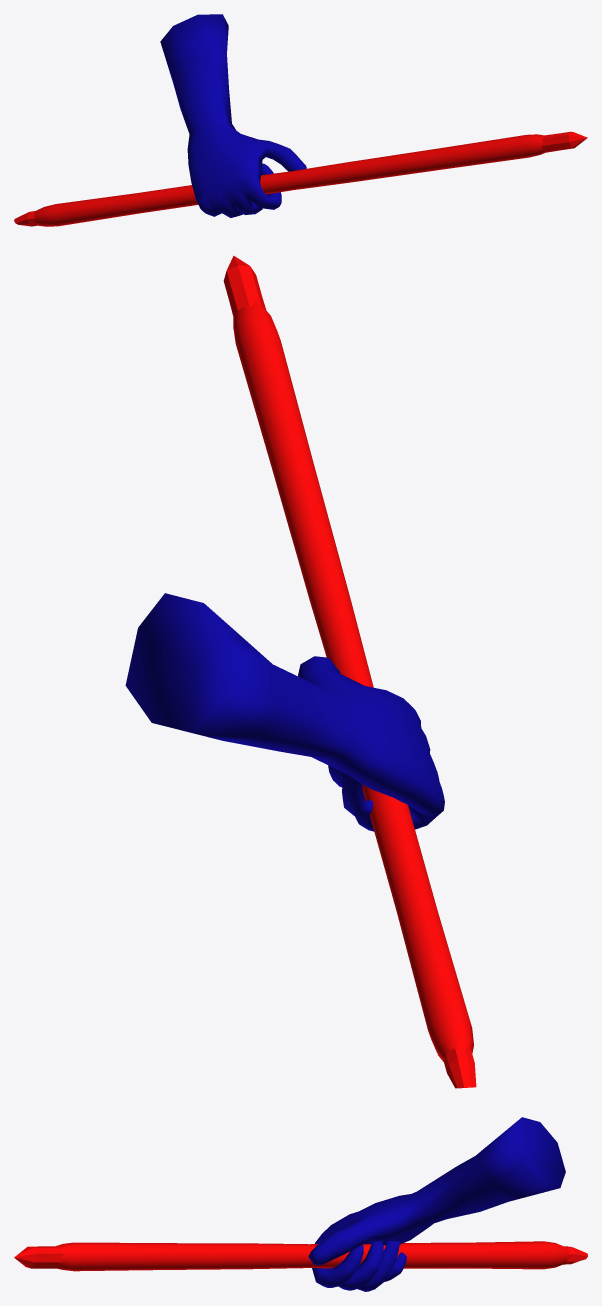
The model's file is Vara.FBX.
3 views of the same model, one above another, from view 1: azimuth 30°, elevation 25°; view 2: azimuth 150°, elevation 25°; view 3: azimuth 270°, elevation 25° (orthographic). The views are drawn at different scales.
Parts seen in each view (by area): view 1: Object060; view 2: Object060; view 3: Object060.
Part boxes in pixels (bbox=[...]): Object060: bbox=[14, 14, 587, 226]; Object060: bbox=[125, 255, 476, 1088]; Object060: bbox=[14, 1117, 587, 1291].
Bounding box in the file's own units: 52.03 × 27.05 × 59.49.
